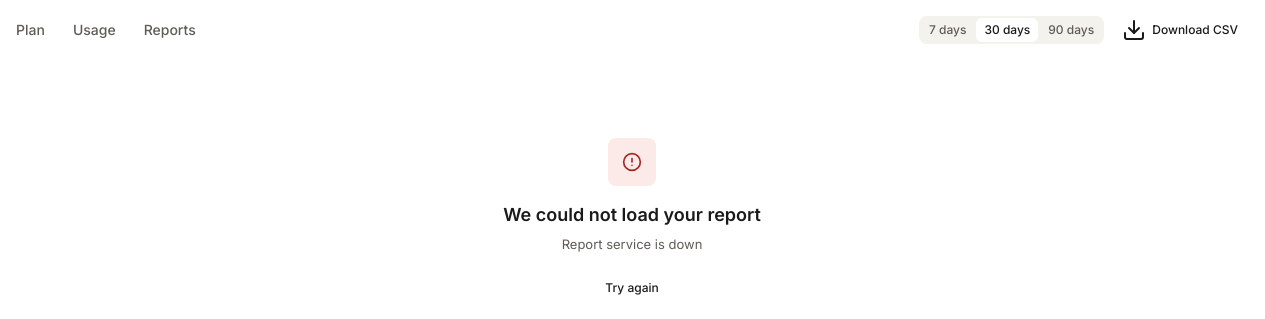
Test: empty and error states › offers a retry when the report fails to load
Expected: the text "Report service is down" is shown, 562,236 -> 702,252
What coordinates should you click on to do the following:
click the button "Try again"
I would click on:
 (632, 288)
Its box is 595,274 -> 669,302.
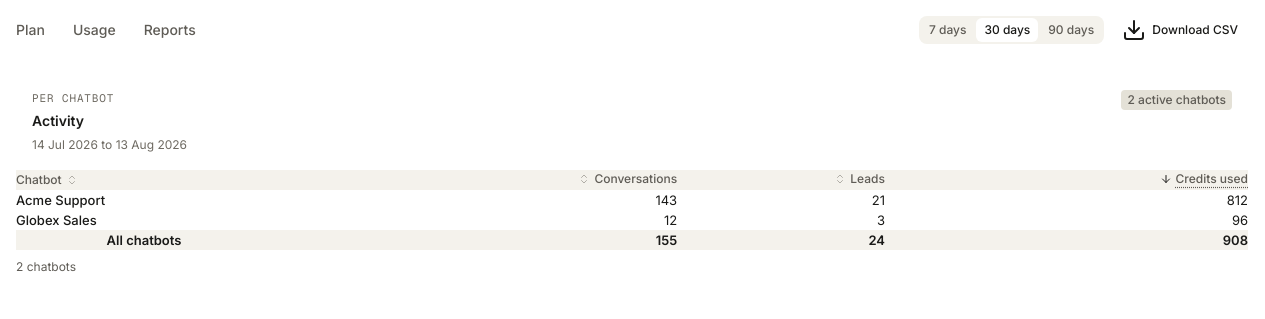
Expected: the table is shown, 16,170 -> 1248,250
